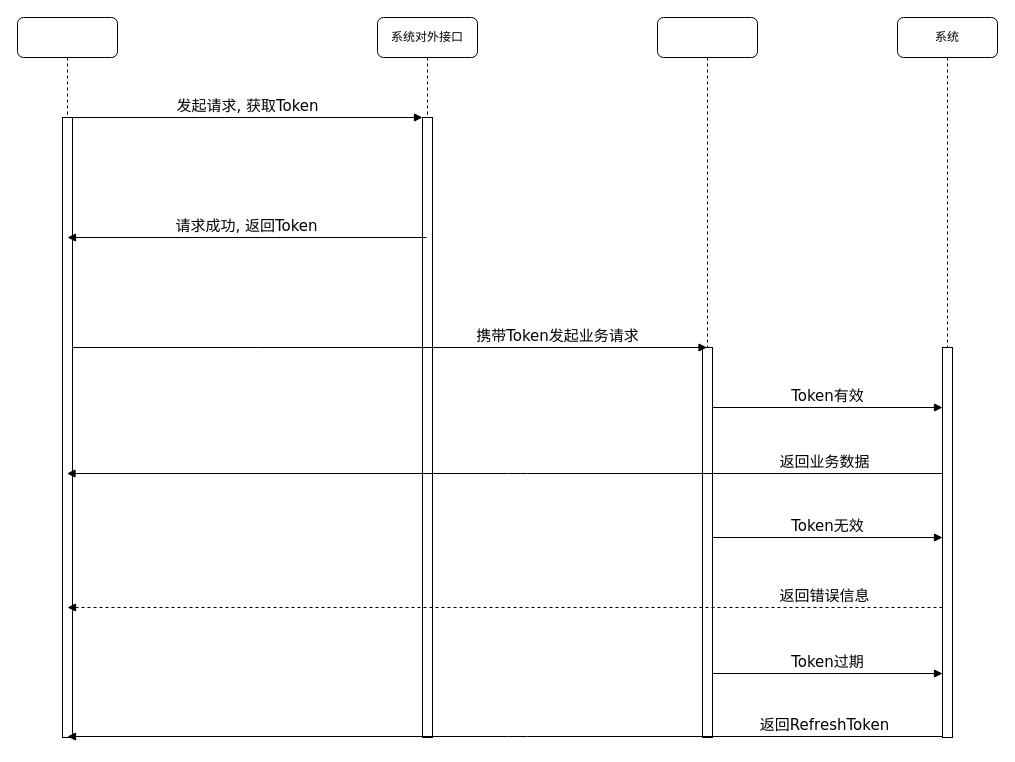
The diagram is 1015 pixels wide and 762 high, and some of its shapes have lost their labels. The shapes that lost their labels are listed below. From the top down, each one's box as (x1, y1, x2, y2) in pixels, then its label:
(16, 16, 118, 738): 第三方
(656, 16, 758, 738): 网关
